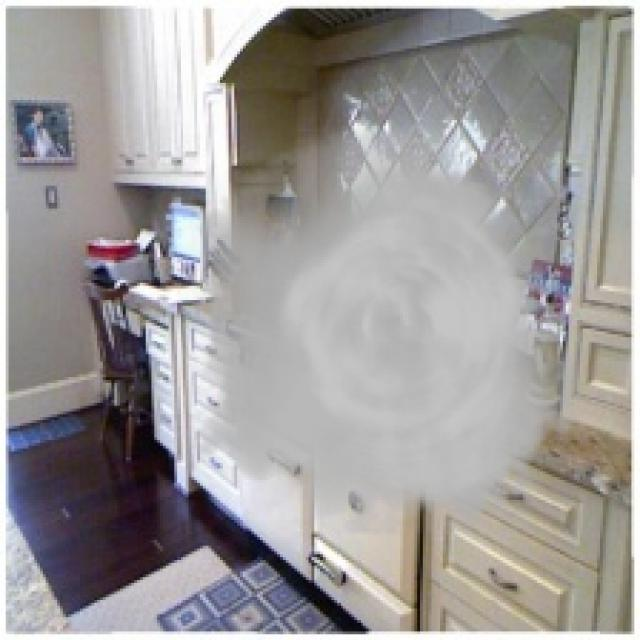smoke: (177, 126, 594, 534)
